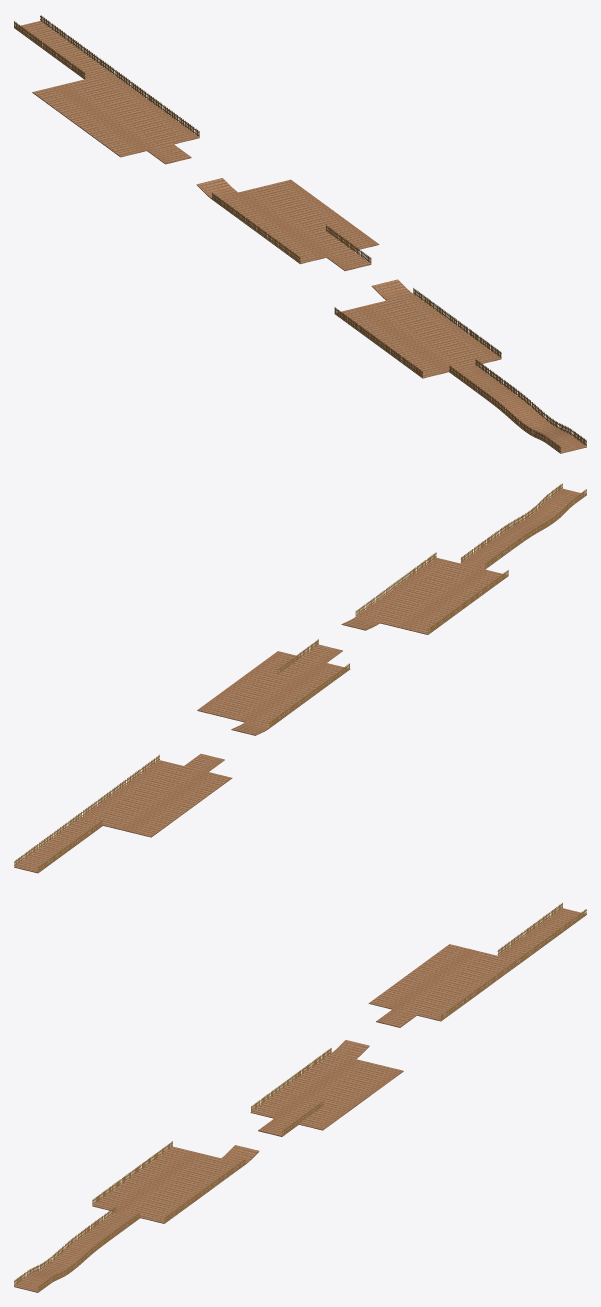
The model's file is TRACK5.fbx.
3 renders of one model, top to bottom at view 1: azimuth 30°, elevation 25°; view 2: azimuth 150°, elevation 25°; view 3: azimuth 330°, elevation 25°, orthographic. The views are drawn at different scales.
Parts seen in each view (by area): view 1: Cube.022, Cube.018, Cube.020, Cube.010, Cube.017, Cube.009, Cube.021, Cube.015, Cube.019, Cube.016, Cube.025, Cube.024 (+4 smaller); view 2: Cube.022, Cube.020, Cube.018, Cube.010, Cube.009, Cube.017, Cube.021, Cube.015, Cube.019, Cube.016, Cube.025, Cube.023 (+4 smaller); view 3: Cube.022, Cube.020, Cube.017, Cube.010, Cube.018, Cube.009, Cube.019, Cube.021, Cube.016, Cube.015, Cube.025, Cube.024 (+4 smaller).
Boxes of the visible parts, <box> form: Cube.022: <box>14,21,199,144</box>; Cube.018: <box>238,186,371,270</box>; Cube.020: <box>59,79,191,164</box>; Cube.010: <box>371,279,501,364</box>; Cube.017: <box>196,178,326,264</box>; Cube.009: <box>449,365,586,453</box>; Cube.021: <box>32,85,146,157</box>; Cube.015: <box>361,300,474,371</box>; Cube.019: <box>265,179,379,250</box>; Cube.016: <box>334,307,448,378</box>; Cube.025: <box>14,15,199,137</box>; Cube.024: <box>449,365,560,452</box>; Cube.022: <box>14,760,183,873</box>; Cube.020: <box>103,754,224,831</box>; Cube.018: <box>221,644,342,722</box>; Cube.010: <box>341,557,460,630</box>; Cube.009: <box>461,488,586,569</box>; Cube.017: <box>231,663,350,735</box>; Cube.021: <box>127,772,232,837</box>; Cube.015: <box>380,563,484,628</box>; Cube.019: <box>197,651,299,716</box>; Cube.016: <box>404,569,508,634</box>; Cube.025: <box>14,754,159,872</box>; Cube.023: <box>460,483,562,562</box>; Cube.022: <box>417,908,586,1021</box>; Cube.020: <box>376,950,497,1027</box>; Cube.017: <box>250,1040,369,1118</box>; Cube.010: <box>140,1145,259,1223</box>; Cube.018: <box>258,1059,378,1136</box>; Cube.009: <box>14,1211,140,1292</box>; Cube.019: <box>299,1065,403,1130</box>; Cube.021: <box>368,944,472,1009</box>; Cube.016: <box>92,1146,196,1211</box>; Cube.015: <box>116,1152,220,1217</box>; Cube.025: <box>441,902,586,1020</box>; Cube.024: <box>14,1206,116,1285</box>.
Bounding box in the file's own units: 2016 × 207 × 19194.
2 materials, 2 textured.
